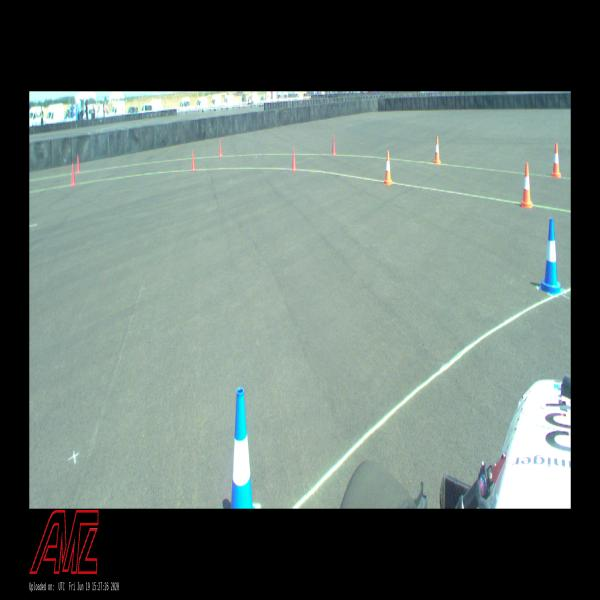blue_cone: (231, 388, 255, 509), (538, 219, 564, 296)
orange_cone: (521, 163, 533, 208), (552, 144, 562, 178), (384, 151, 392, 185), (434, 137, 441, 164)
unknown_cone: (70, 163, 76, 187), (191, 150, 196, 172), (292, 146, 296, 172), (332, 136, 336, 154), (76, 155, 80, 173), (218, 140, 222, 157)
